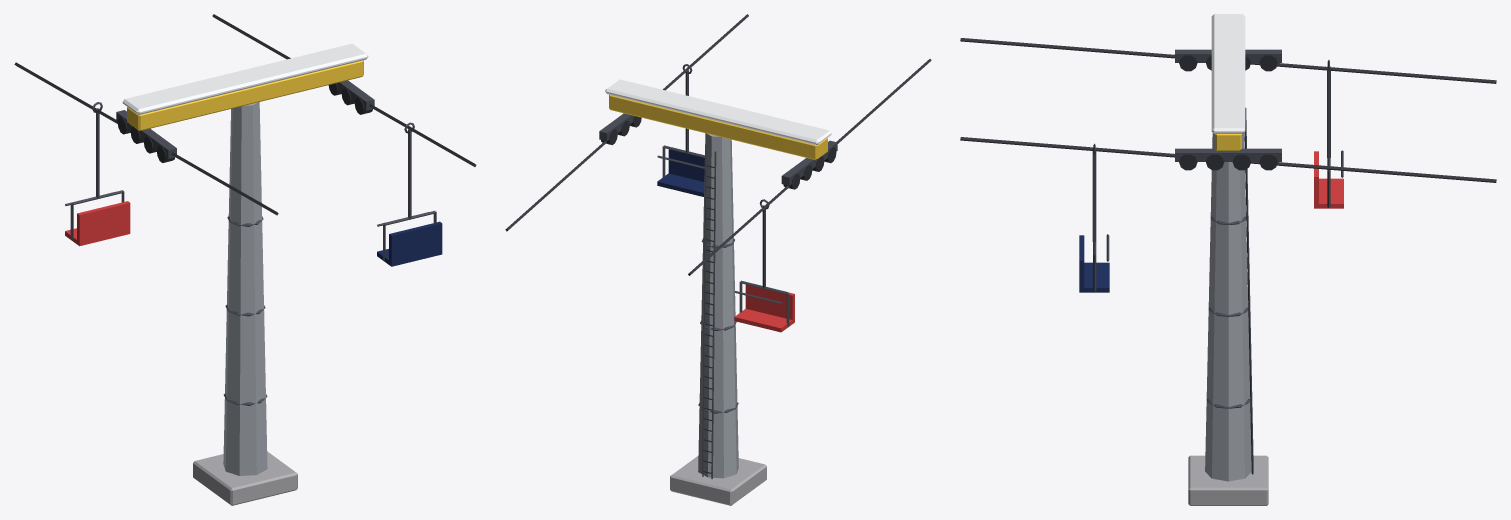
The model's file is SkiLiftTower.fbx.
3 views of the same model, side by side, from view 1: azimuth 30°, elevation 25°; view 2: azimuth 150°, elevation 25°; view 3: azimuth 270°, elevation 25° (orthographic). The views are drawn at different scales.
Visible parts, largest first — view 1: SkiLiftTower_Metal, SkiLiftTower_Snow, SkiLiftTower_Yellow, SkiLiftTower_Concrete, SkiLiftTower_DarkMetal, SkiLiftTower_Charcoal, SkiLiftTower_Navy, SkiLiftTower_Red; view 2: SkiLiftTower_Metal, SkiLiftTower_DarkMetal, SkiLiftTower_Snow, SkiLiftTower_Yellow, SkiLiftTower_Concrete, SkiLiftTower_Charcoal, SkiLiftTower_Red, SkiLiftTower_Navy; view 3: SkiLiftTower_Metal, SkiLiftTower_Charcoal, SkiLiftTower_DarkMetal, SkiLiftTower_Snow, SkiLiftTower_Concrete, SkiLiftTower_Navy, SkiLiftTower_Red.
Boxes of the visible parts, bbox=[...] form: SkiLiftTower_Metal: bbox=[223, 102, 267, 475]; SkiLiftTower_Snow: bbox=[122, 43, 368, 114]; SkiLiftTower_Yellow: bbox=[127, 60, 363, 130]; SkiLiftTower_Concrete: bbox=[193, 451, 297, 505]; SkiLiftTower_DarkMetal: bbox=[65, 80, 436, 405]; SkiLiftTower_Charcoal: bbox=[14, 14, 476, 215]; SkiLiftTower_Navy: bbox=[377, 221, 442, 266]; SkiLiftTower_Red: bbox=[65, 201, 130, 246]; SkiLiftTower_Metal: bbox=[698, 133, 738, 478]; SkiLiftTower_DarkMetal: bbox=[599, 64, 837, 478]; SkiLiftTower_Snow: bbox=[605, 79, 831, 145]; SkiLiftTower_Yellow: bbox=[609, 94, 827, 159]; SkiLiftTower_Concrete: bbox=[670, 456, 766, 505]; SkiLiftTower_Charcoal: bbox=[505, 14, 931, 275]; SkiLiftTower_Red: bbox=[734, 284, 794, 332]; SkiLiftTower_Navy: bbox=[657, 149, 704, 196]; SkiLiftTower_Metal: bbox=[1205, 133, 1251, 481]; SkiLiftTower_Charcoal: bbox=[960, 38, 1496, 182]; SkiLiftTower_DarkMetal: bbox=[1092, 49, 1343, 474]; SkiLiftTower_Snow: bbox=[1211, 14, 1245, 133]; SkiLiftTower_Concrete: bbox=[1188, 455, 1268, 505]; SkiLiftTower_Navy: bbox=[1079, 235, 1109, 292]; SkiLiftTower_Red: bbox=[1314, 151, 1343, 208].
Bounding box in the file's own units: 17.8 × 27.6 × 32.02.
